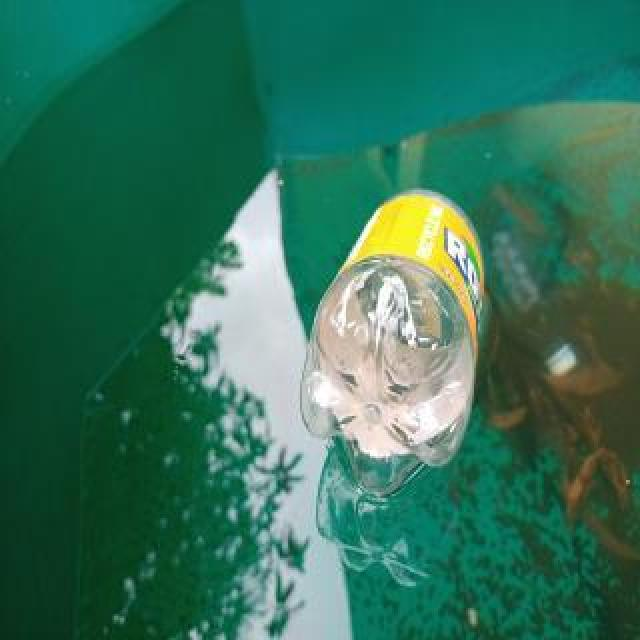bottle: (295, 182, 489, 498)
